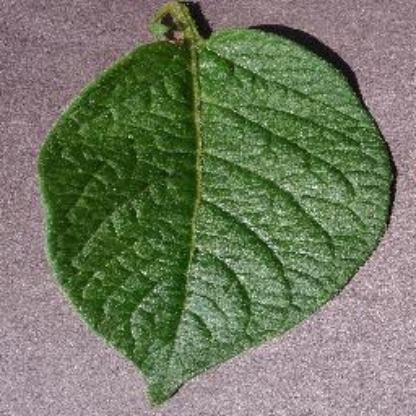Healthy-plant: (25, 13, 401, 399)
